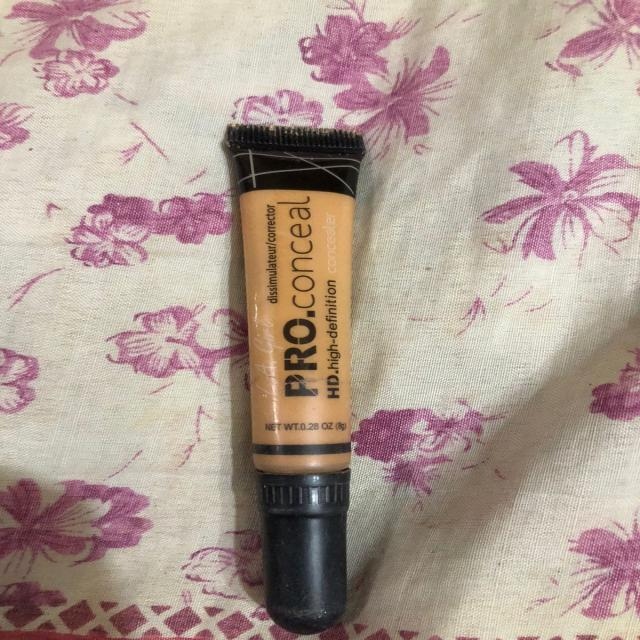concealer: (198, 114, 398, 636)
